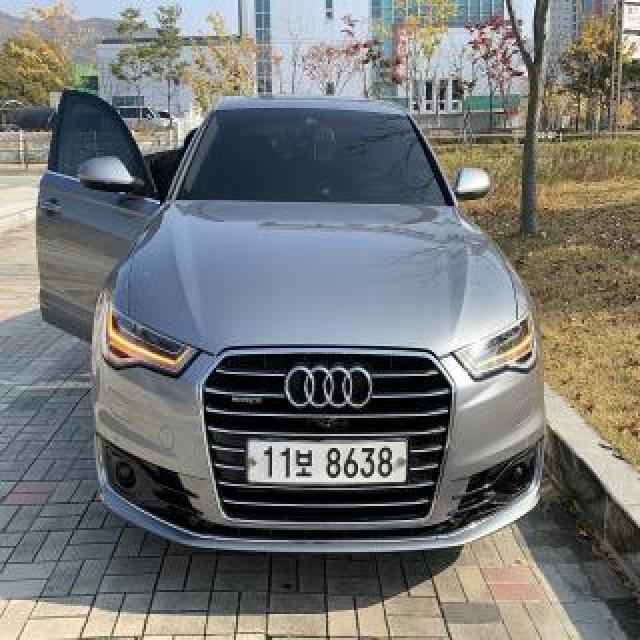car: (34, 84, 554, 562)
illegal_plate: (246, 434, 412, 494)
